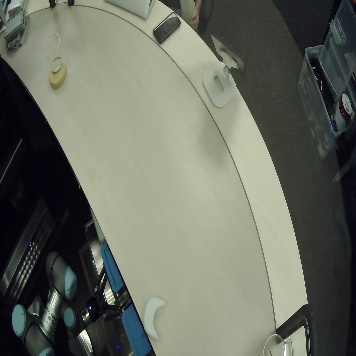empty_cup: (43, 33, 70, 73), (257, 331, 293, 355)
puck: (140, 291, 168, 342), (48, 63, 68, 90)
